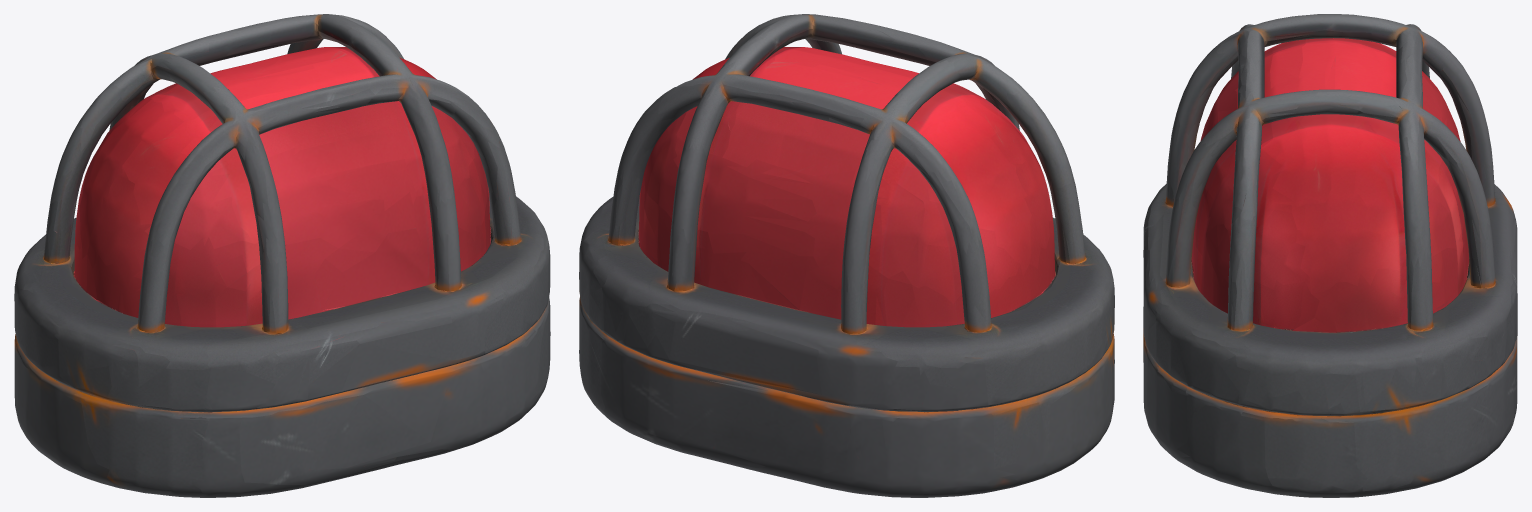
Rendered from lampada_muro.glb.
3 renders of one model, left to right at view 1: azimuth 30°, elevation 25°; view 2: azimuth 150°, elevation 25°; view 3: azimuth 270°, elevation 25°, orthographic. The views are drawn at different scales.
Parts seen in each view (by area): view 1: Mesh_0; view 2: Mesh_0; view 3: Mesh_0.
Boxes of the visible parts, box(x1,y1,x2,y2) form: Mesh_0: box(14, 14, 550, 497); Mesh_0: box(579, 14, 1114, 497); Mesh_0: box(1143, 14, 1517, 497).
Bounding box in the file's own units: 1.9 × 1.33 × 1.33.
1 material, 1 textured.
